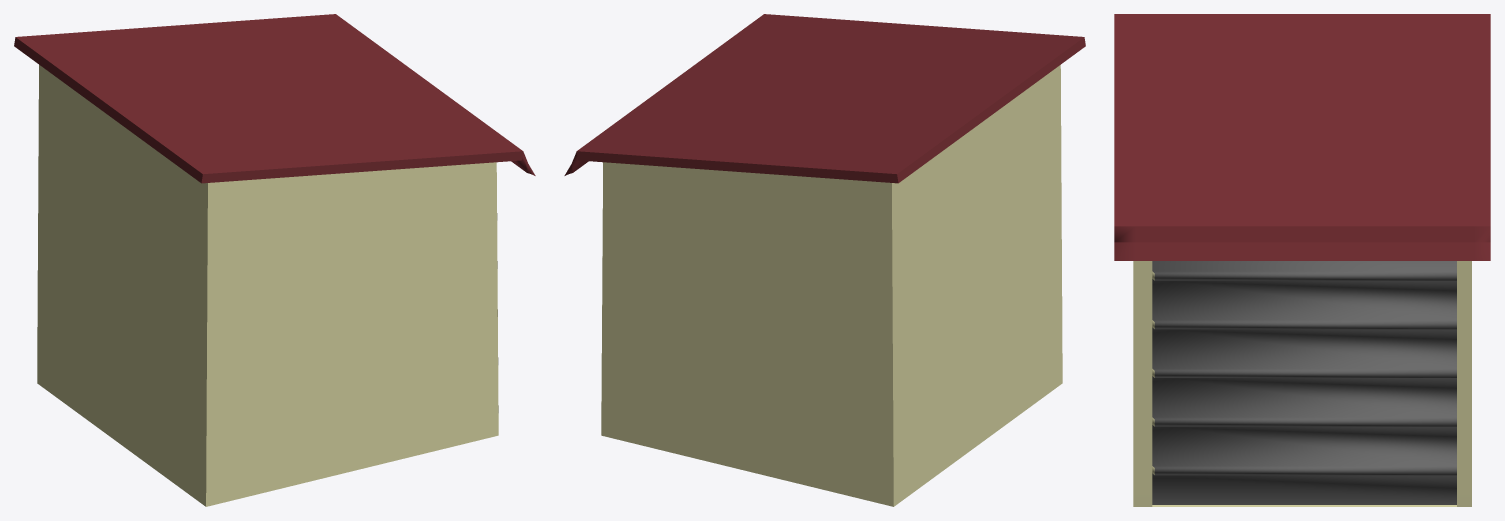
Rendered from tindahan_1.fbx.
The picture shows the model from 3 angles, left to right: view 1: azimuth 30°, elevation 25°; view 2: azimuth 150°, elevation 25°; view 3: azimuth 270°, elevation 25°; orthographic projection.
Parts seen in each view (by area): view 1: TINDAHAN2; view 2: TINDAHAN2; view 3: TINDAHAN2.
Boxes of the visible parts, x1,y1,x2,y2 form: TINDAHAN2: (14, 14, 535, 506); TINDAHAN2: (564, 14, 1085, 506); TINDAHAN2: (1114, 14, 1490, 506).
Size of the model in its own units: 4694 by 4595 by 4557.
